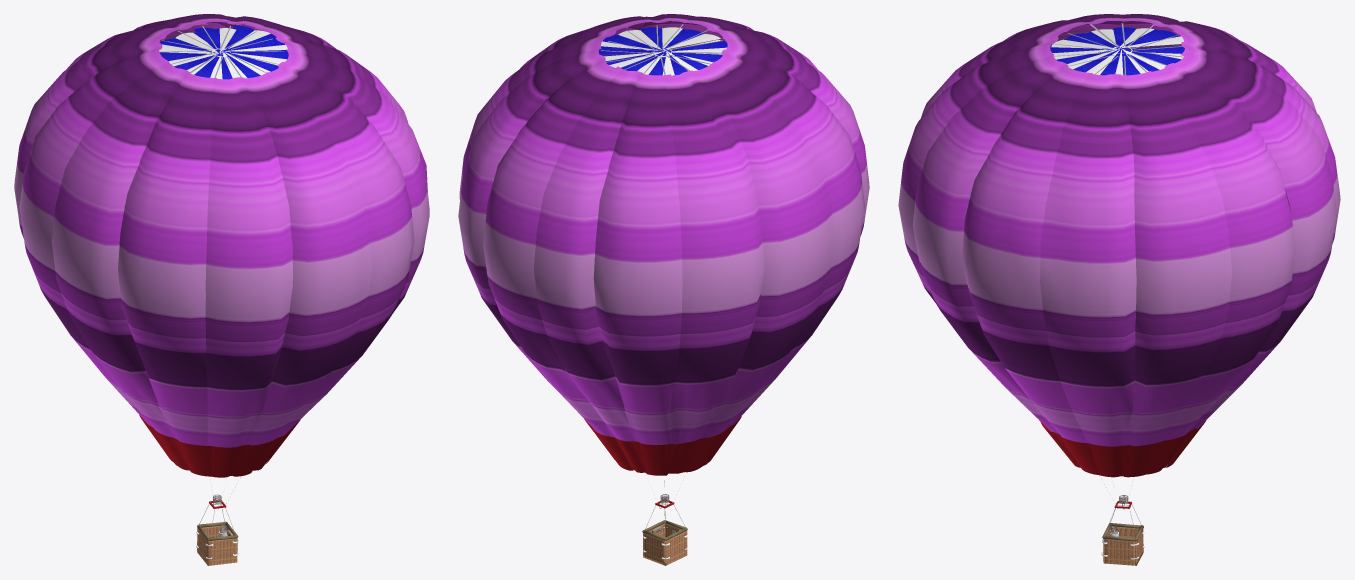
The model's file is balao3.gltf.
3 views of the same model, side by side, from view 1: azimuth 30°, elevation 25°; view 2: azimuth 150°, elevation 25°; view 3: azimuth 270°, elevation 25° (orthographic).
Parts seen in each view (by area): view 1: Object_9; view 2: Object_9; view 3: Object_9.
Boxes of the visible parts, x1=… form: Object_9: x1=14, y1=14, x2=429, y2=565; Object_9: x1=458, y1=14, x2=869, y2=565; Object_9: x1=898, y1=14, x2=1340, y2=565.
Size of the model in its own units: 0.1957 by 0.2725 by 0.2125.
Materials: 33 (17 with a texture image).
